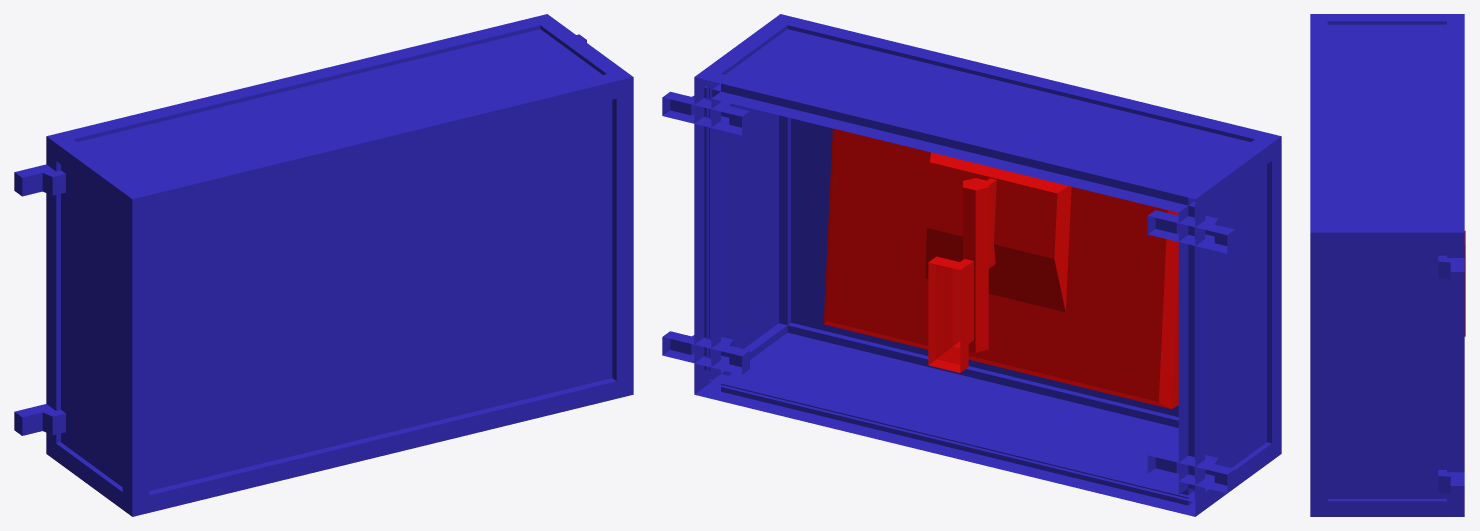
3 renders of one model, left to right at view 1: azimuth 30°, elevation 25°; view 2: azimuth 150°, elevation 25°; view 3: azimuth 270°, elevation 25°, orthographic. The views are drawn at different scales.
Parts seen in each view (by area): view 1: TV; view 2: TV; view 3: TV.
Boxes of the visible parts, x1,y1,x2,y2 form: TV: (14,14,633,516); TV: (662,14,1281,516); TV: (1310,14,1465,516).
Size of the model in its own units: 150 by 80.57 by 39.85.
